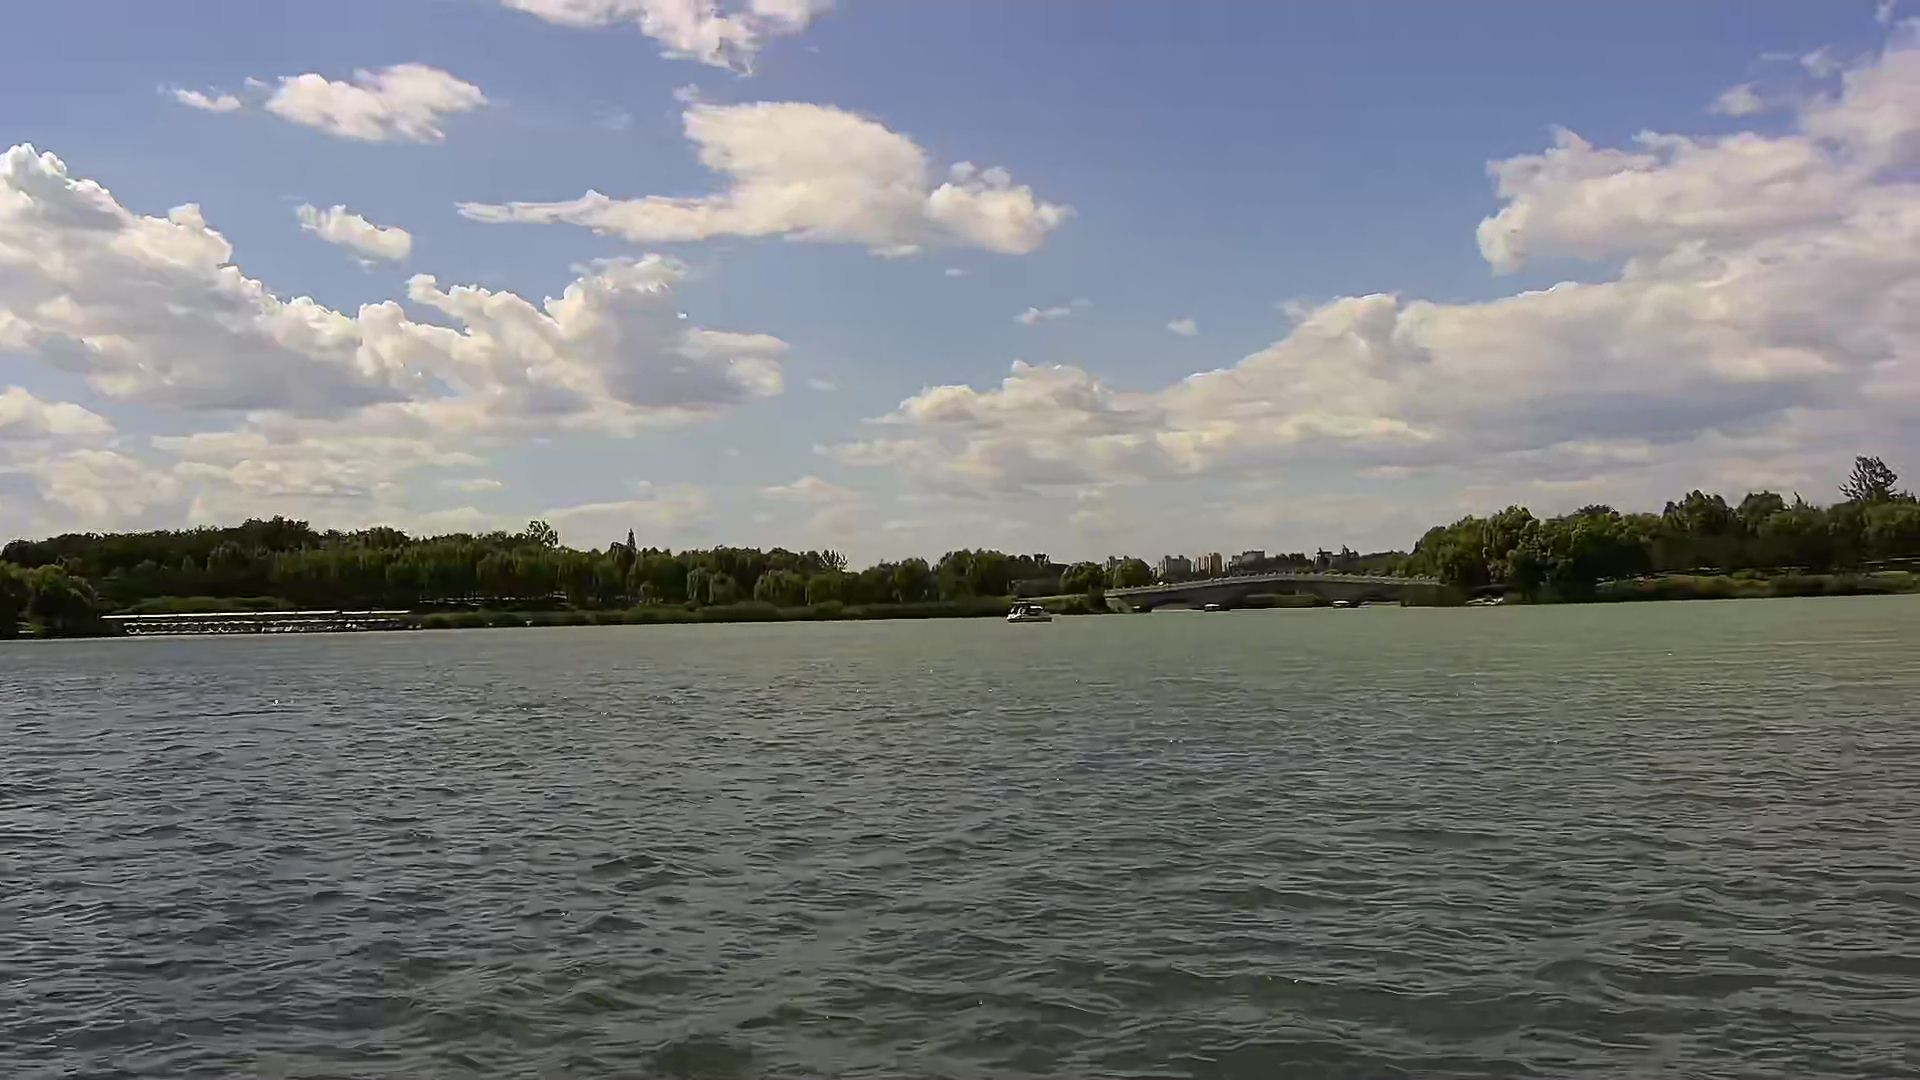boat: (1004, 595, 1054, 622)
bridge: (1112, 574, 1436, 607)
harbor: (104, 611, 410, 636)
